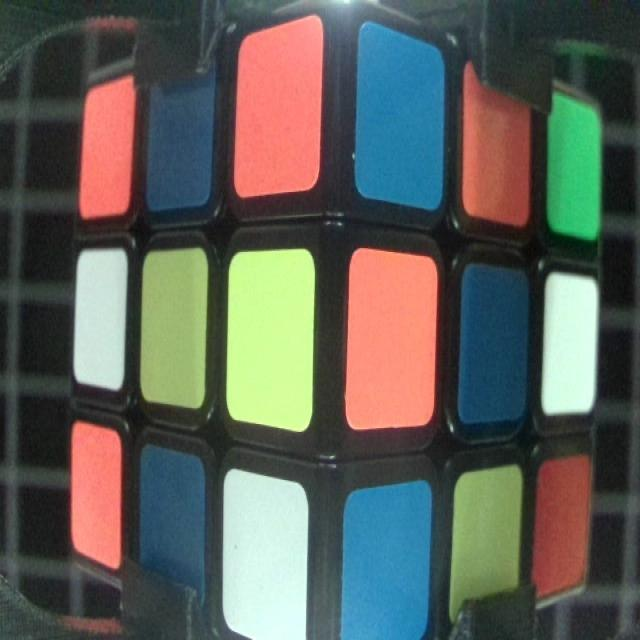b: (358, 22, 444, 204), (346, 492, 431, 640), (458, 268, 528, 414), (140, 446, 202, 606), (150, 70, 211, 207)
g: (550, 99, 598, 237)
o: (351, 252, 432, 424), (240, 34, 316, 195), (462, 66, 530, 220), (72, 423, 121, 567), (537, 463, 588, 591), (81, 88, 130, 216)
w: (223, 473, 303, 640), (544, 274, 598, 414), (75, 251, 123, 385)
y: (231, 255, 310, 429), (454, 473, 516, 619), (143, 259, 202, 407)
